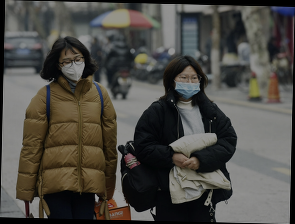with_mask: (173, 72, 202, 102), (58, 53, 86, 82)
